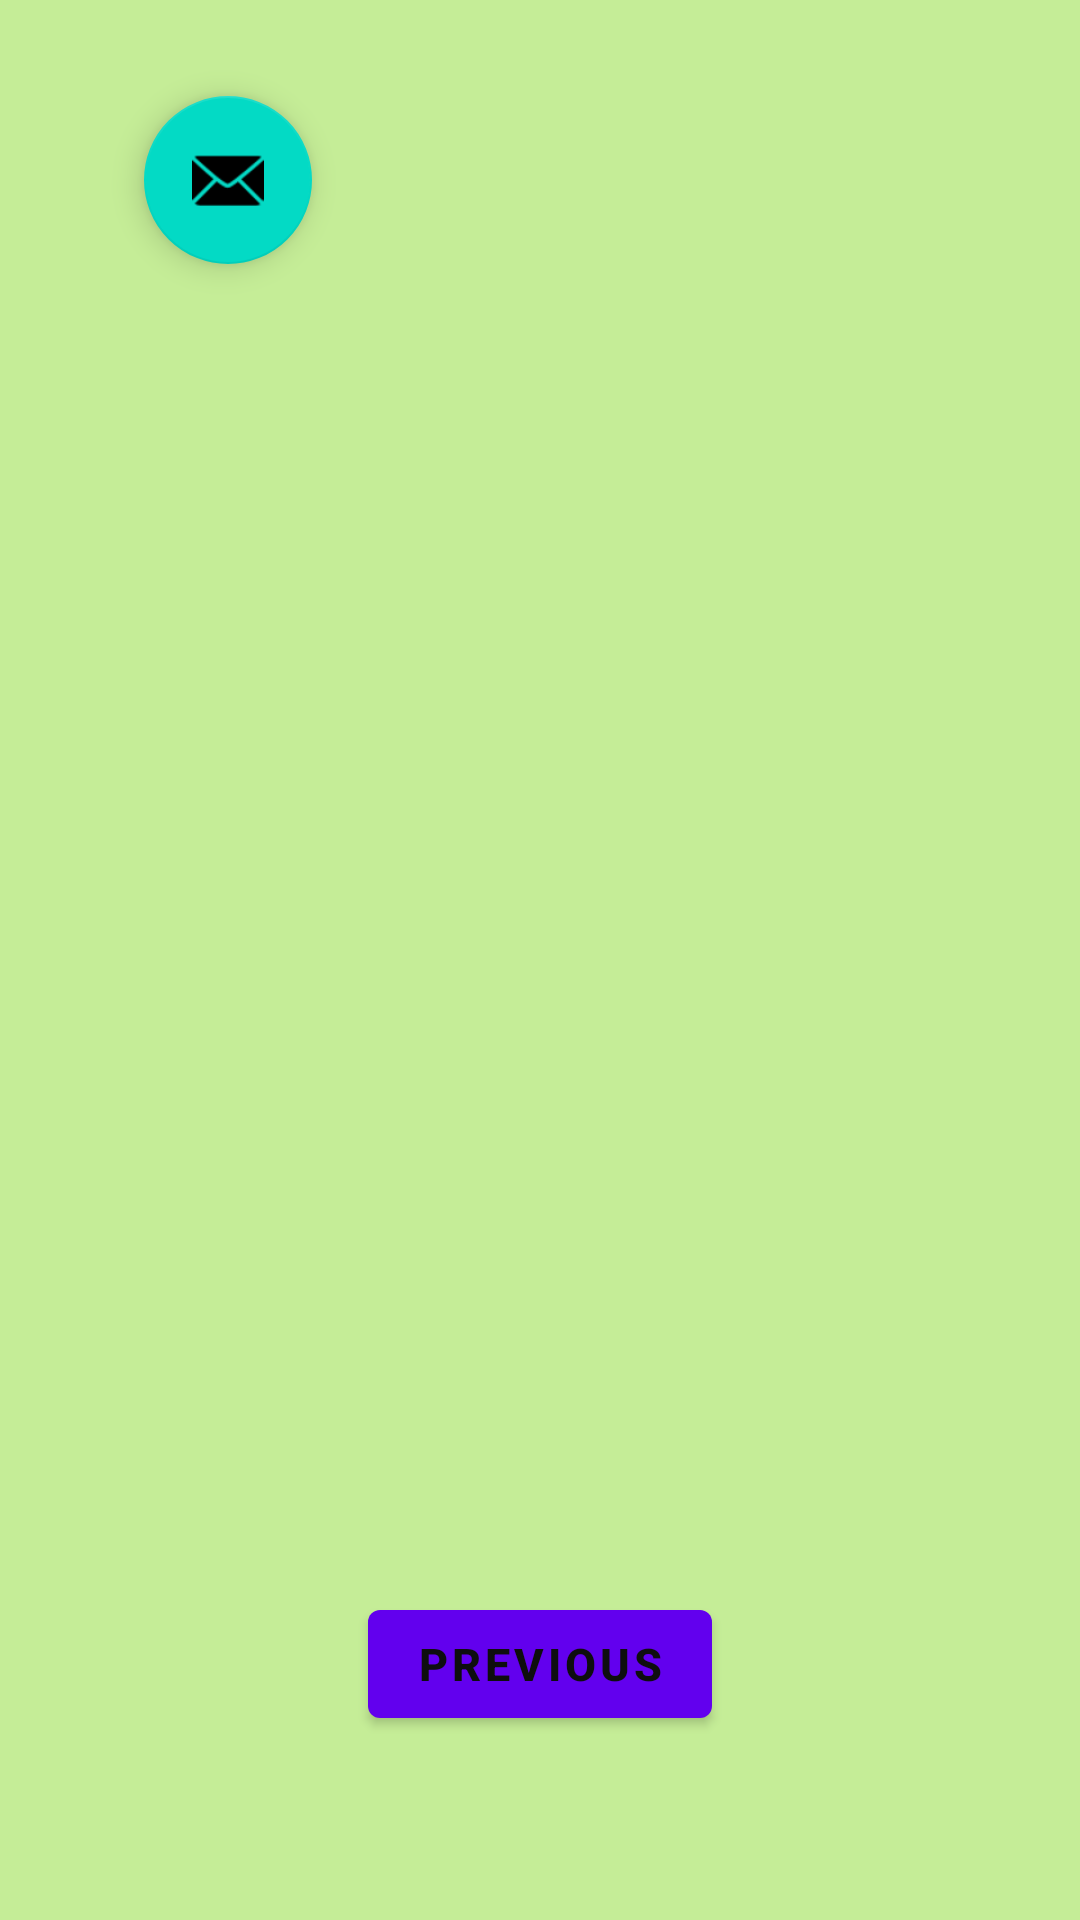

Icon click points for this 1080 × 1920 phone screenshot, format [x,y]:
email: [228,180]
